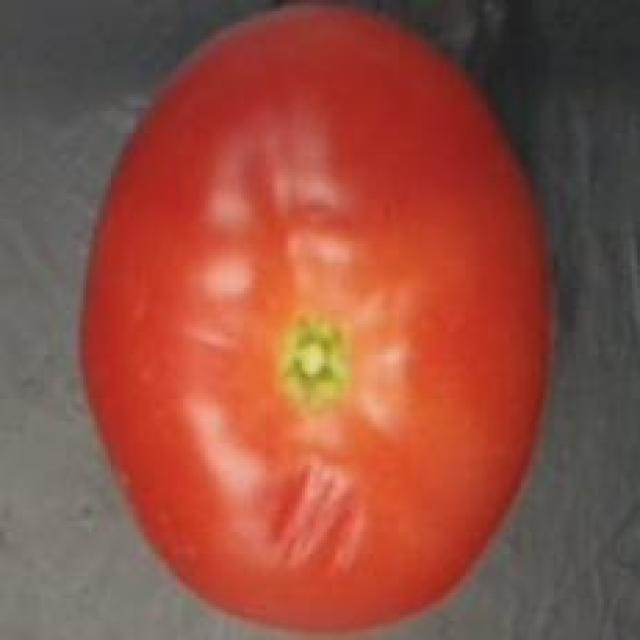overripe tomato: (72, 0, 576, 634)
